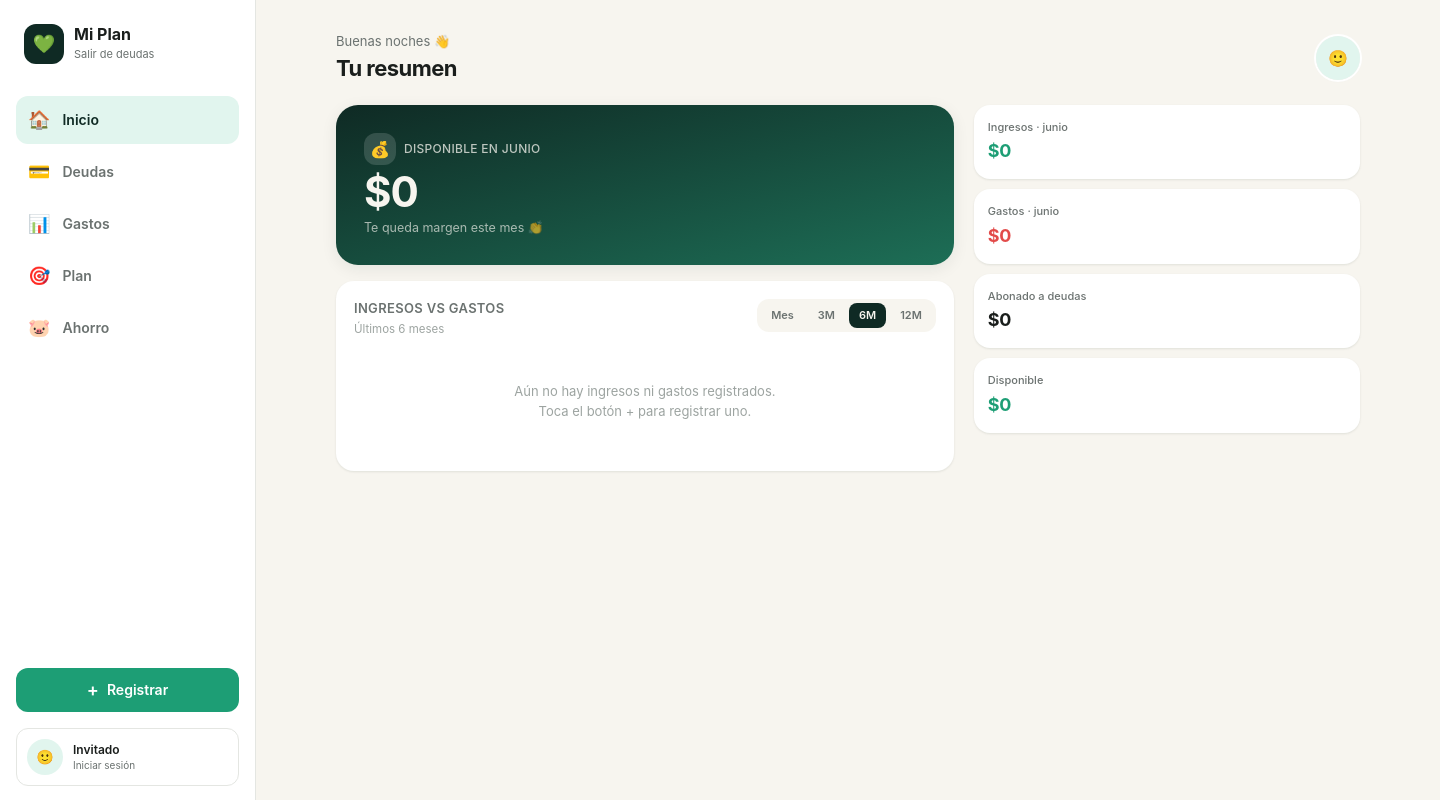
App (smoke) › navega al Plan y calcula meses para ser libre
Click the button "🎯 Plan" at (128, 276), box x1=16 y1=252 x2=239 y2=300
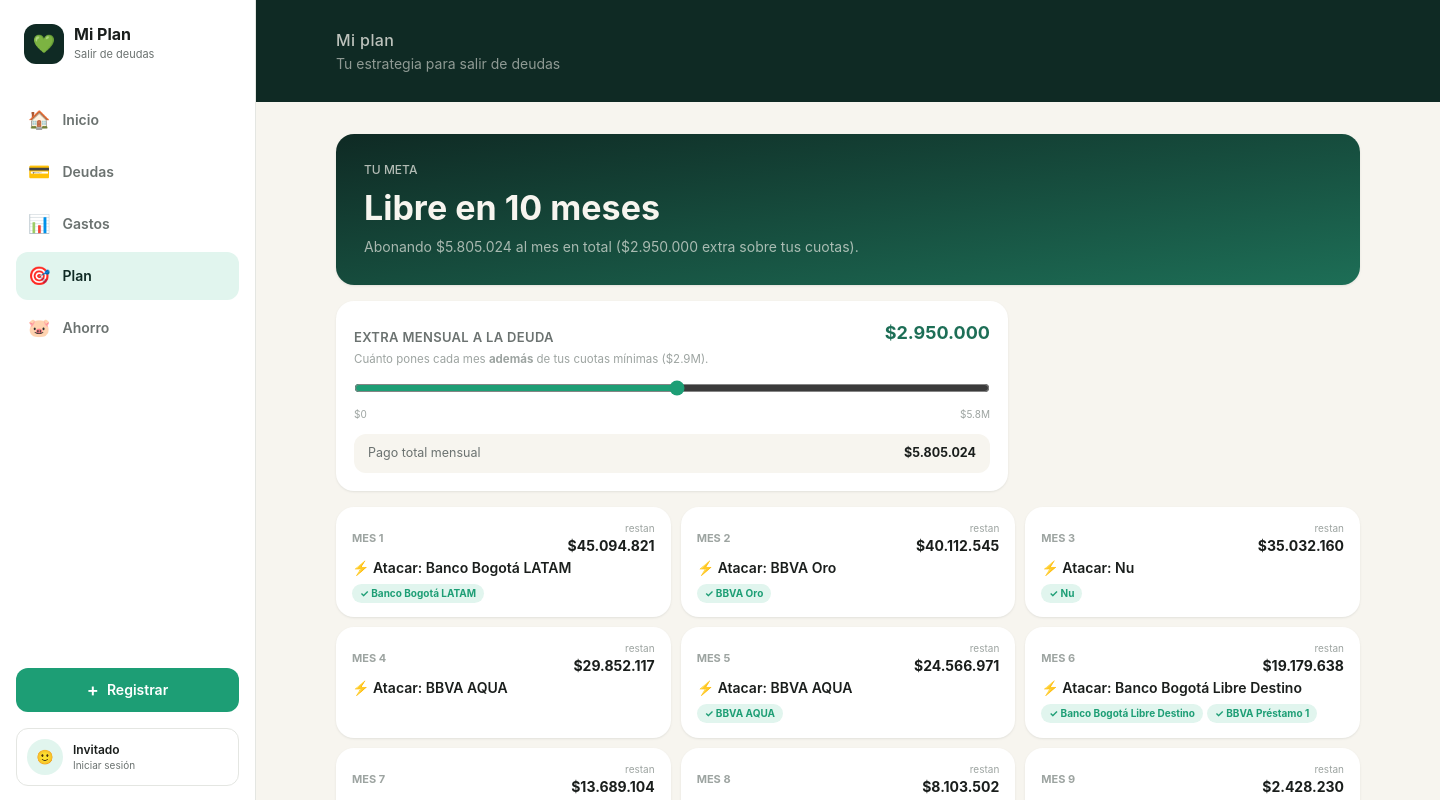
expect the text "Libre en 10 meses" is shown: met, box x1=364 y1=187 x2=660 y2=228
